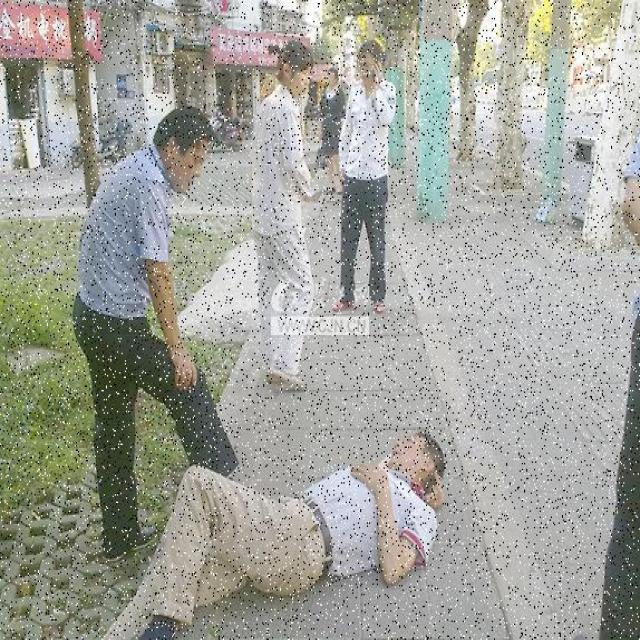fall: (106, 420, 468, 638)
